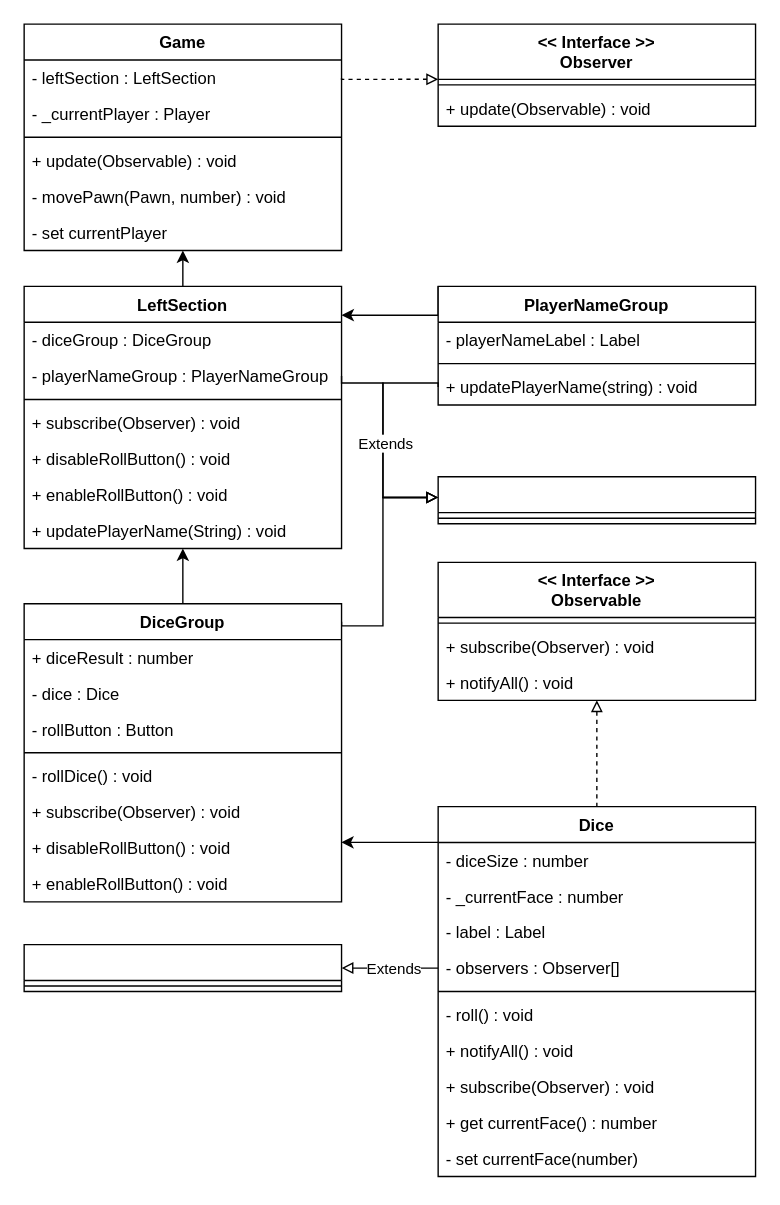
Some shapes in this 780 by 1205 pixel diagram are drawn without their labels. Here are the shapes that lost their labels. From the top down, the centre of each, then its label:
At (596,499): "Tile".
At (182,967): "Rectangle".
